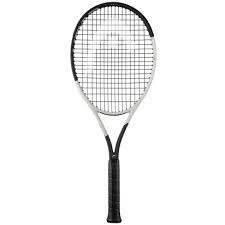tennis racket: (70, 2, 160, 223)
